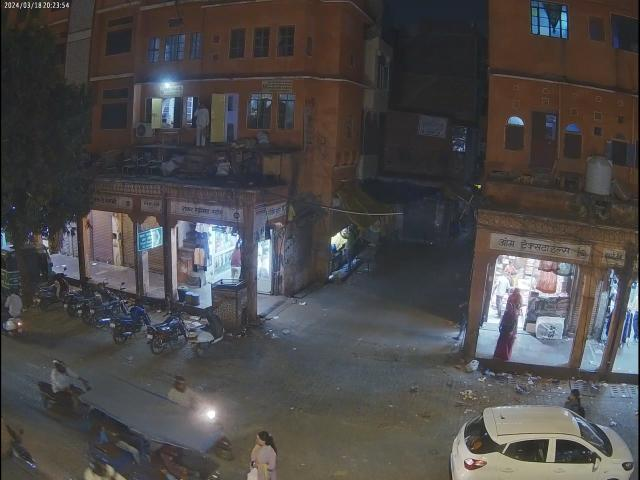auto: (86, 378, 232, 480), (526, 2, 568, 43)
car: (444, 403, 633, 480)
helmet: (52, 358, 70, 372)
motorbike: (110, 298, 153, 344), (152, 304, 186, 359)
motorbike-rider: (28, 358, 90, 419)
person: (249, 430, 281, 479)
scooty: (184, 303, 242, 355)
